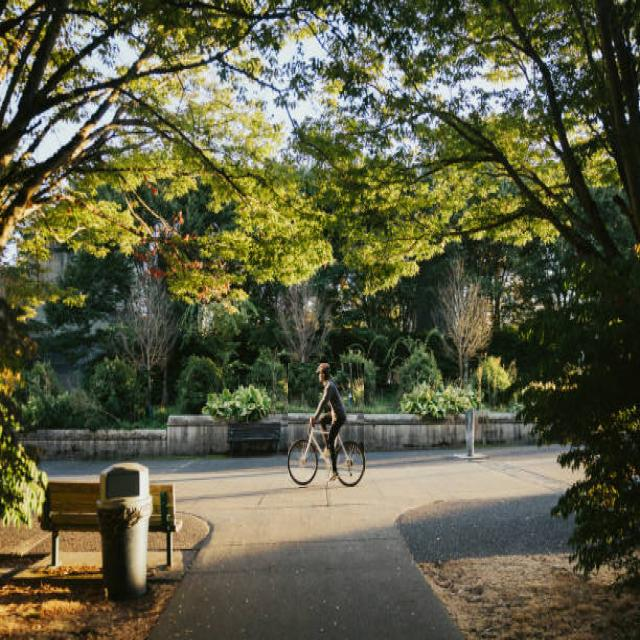bicycle: (289, 363, 364, 487)
